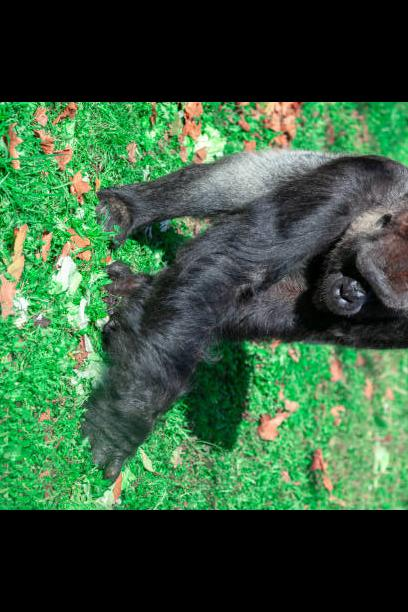gorille_Autres: (13, 107, 408, 510)
